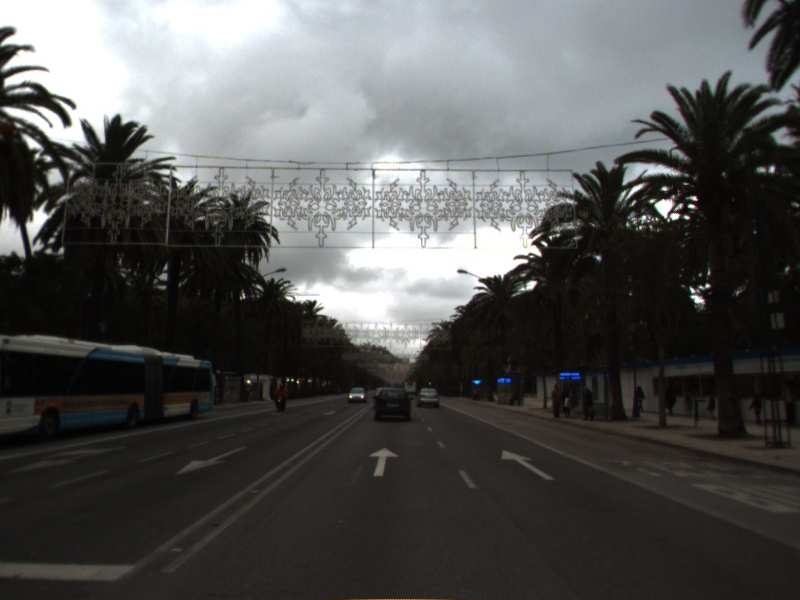STRAIGHT: (499, 448, 557, 482), (366, 445, 402, 478)
